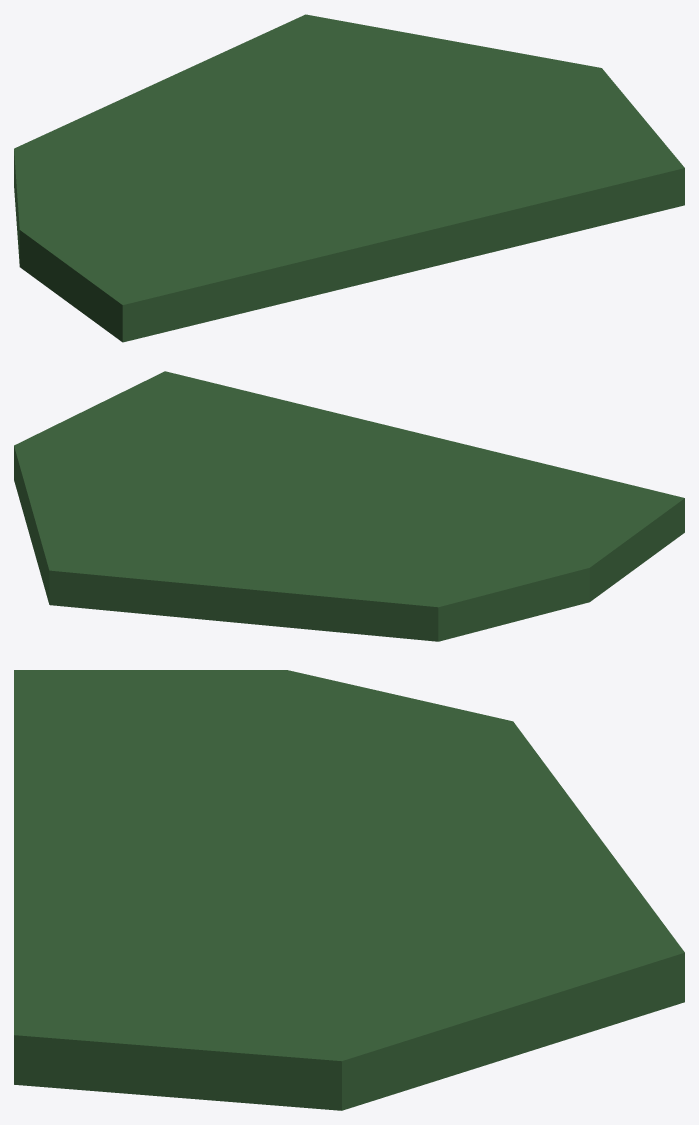
Rendered from x_proval_00_87_1_rmstrd.fbx.
The picture shows the model from 3 angles, top to bottom: view 1: azimuth 30°, elevation 25°; view 2: azimuth 150°, elevation 25°; view 3: azimuth 270°, elevation 25°; orthographic projection. The views are drawn at different scales.
Parts seen in each view (by area): view 1: x_proval_00_87_1_rmstrd1; view 2: x_proval_00_87_1_rmstrd1; view 3: x_proval_00_87_1_rmstrd1.
Part boxes in pixels (x1,y1,x2,y2): x_proval_00_87_1_rmstrd1: (14, 14, 684, 342); x_proval_00_87_1_rmstrd1: (14, 371, 684, 641); x_proval_00_87_1_rmstrd1: (14, 670, 684, 1110).
Bounding box in the file's own units: 3.38 × 0.2 × 2.45.
